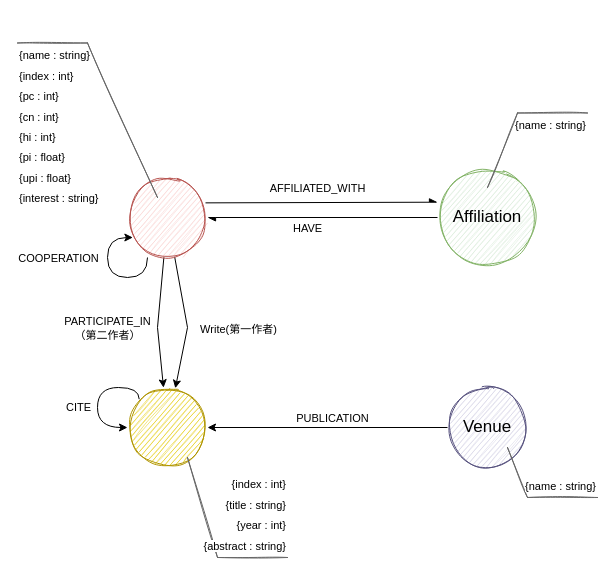
Some shapes in this 615 by 575 pixel diagram are drawn without their labels. Here are the shapes that lost their labels. From the top down, the centre of each, then its label:
At point (167, 217): "Author".
At point (167, 427): "Paper".
